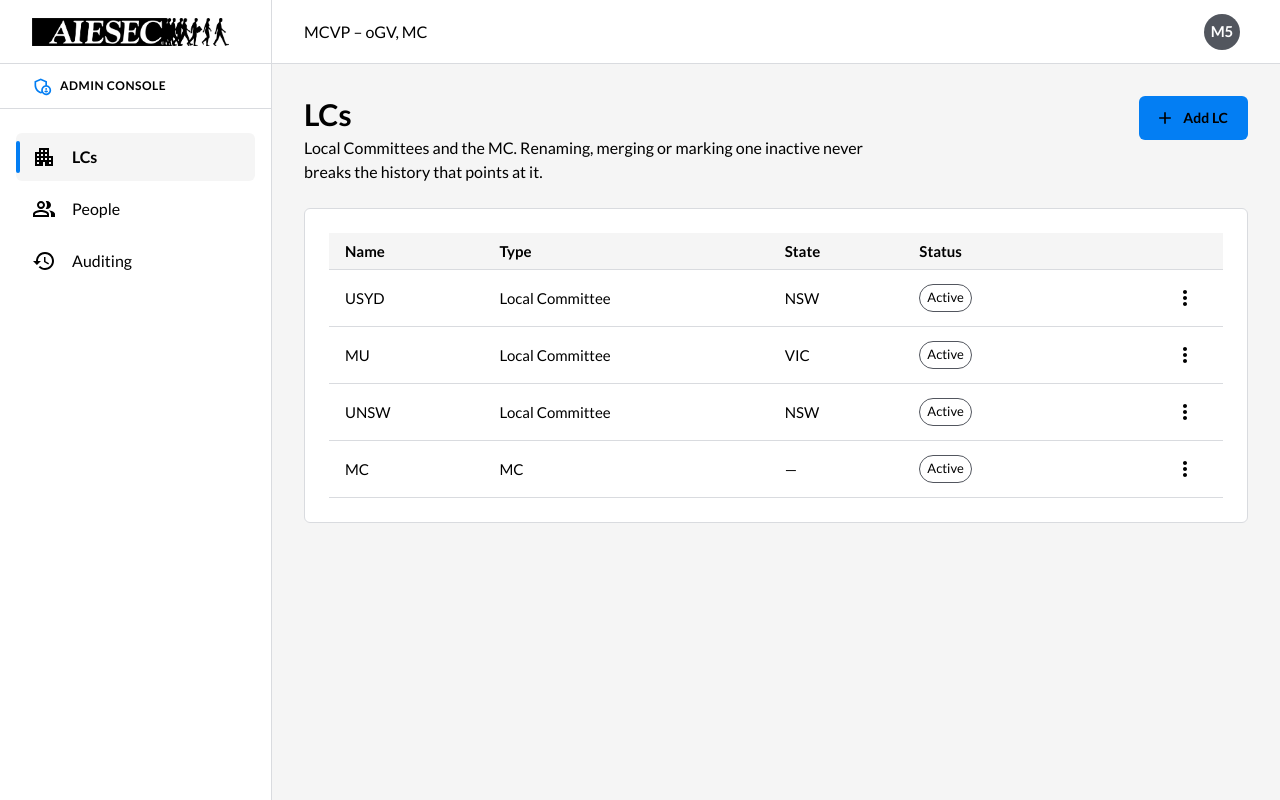
Test: admin console screens › shows the server message when a rename clashes with an existing LC
This screenshot has width=1280, height=800.
Click the button named "Actions for USYD".
click(1185, 298)  # box [1163, 276, 1207, 320]
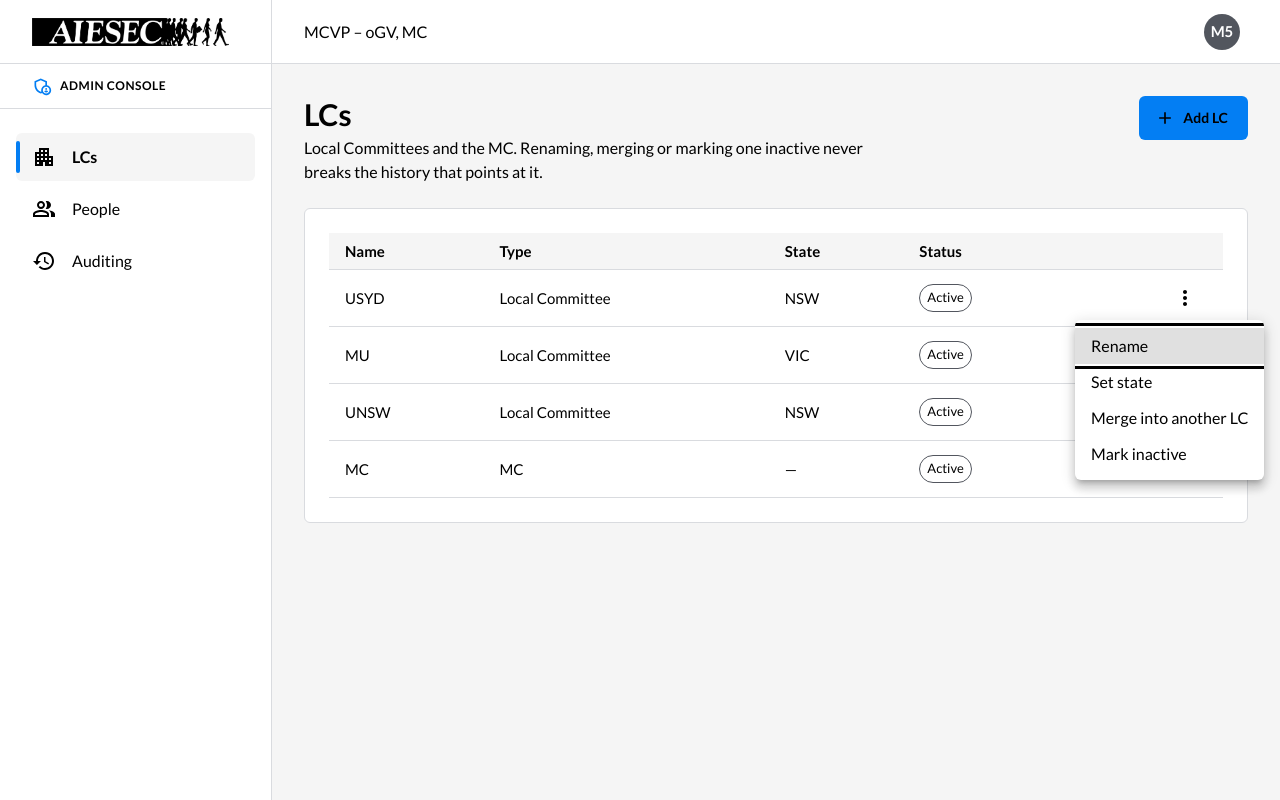
Click the menu item "Rename".
click(1170, 346)  # box [1075, 328, 1264, 364]
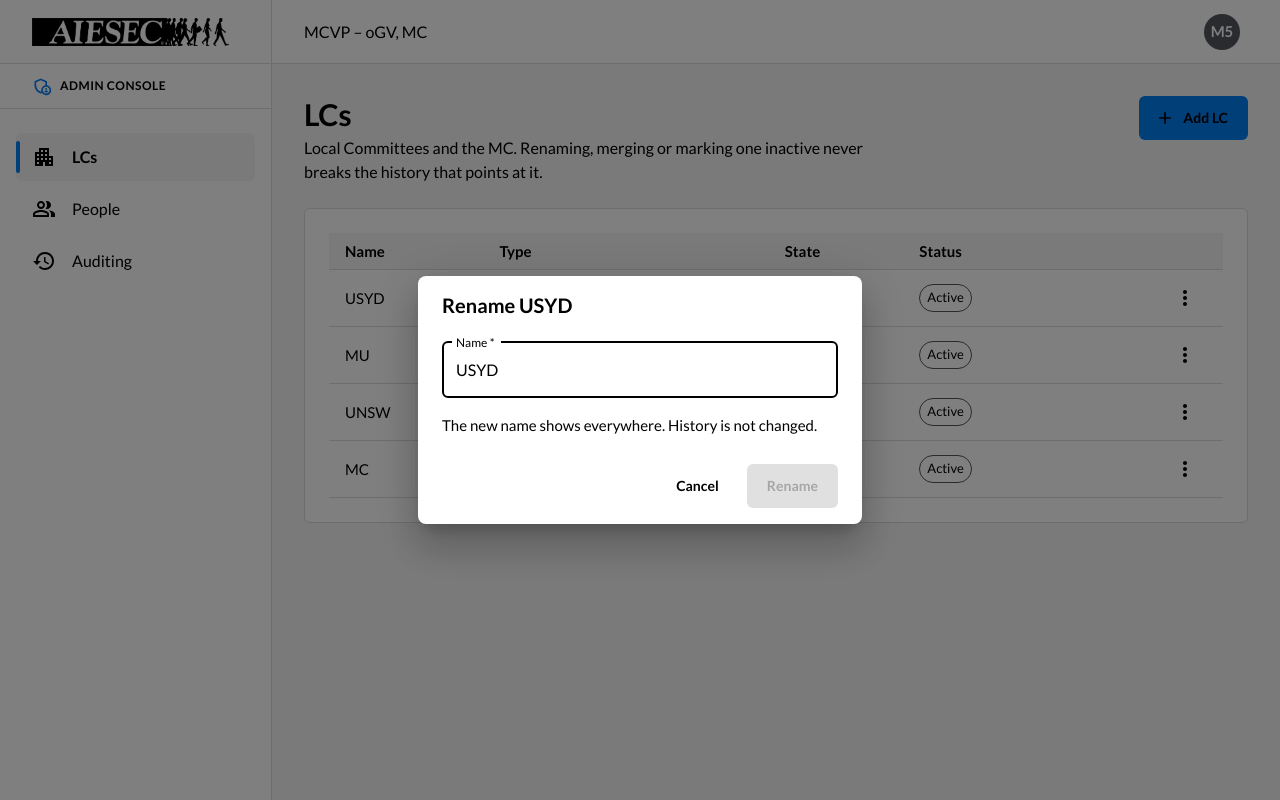
Replace the text in the field labelled "Name *" with "mu" at point(640, 370), box [442, 342, 838, 398]
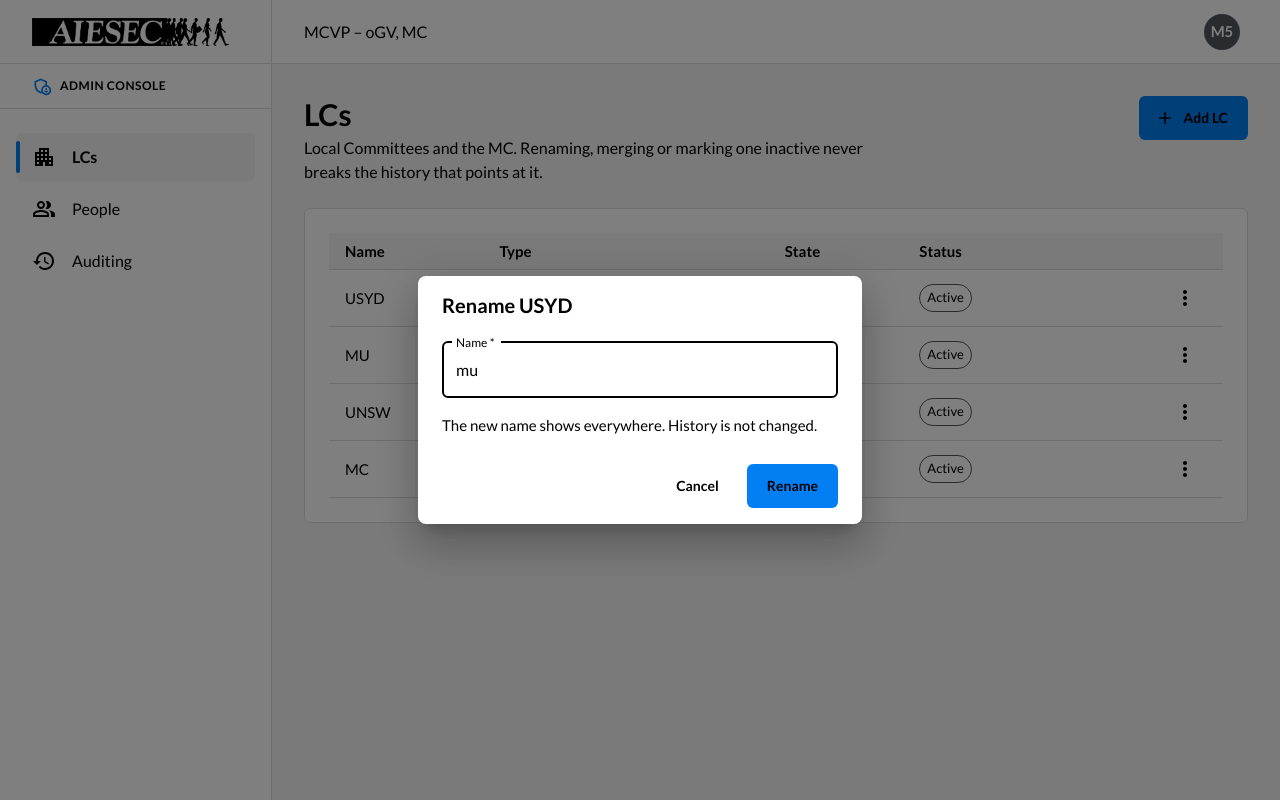
Click the button "Rename".
click(792, 486)  # box [747, 464, 838, 508]
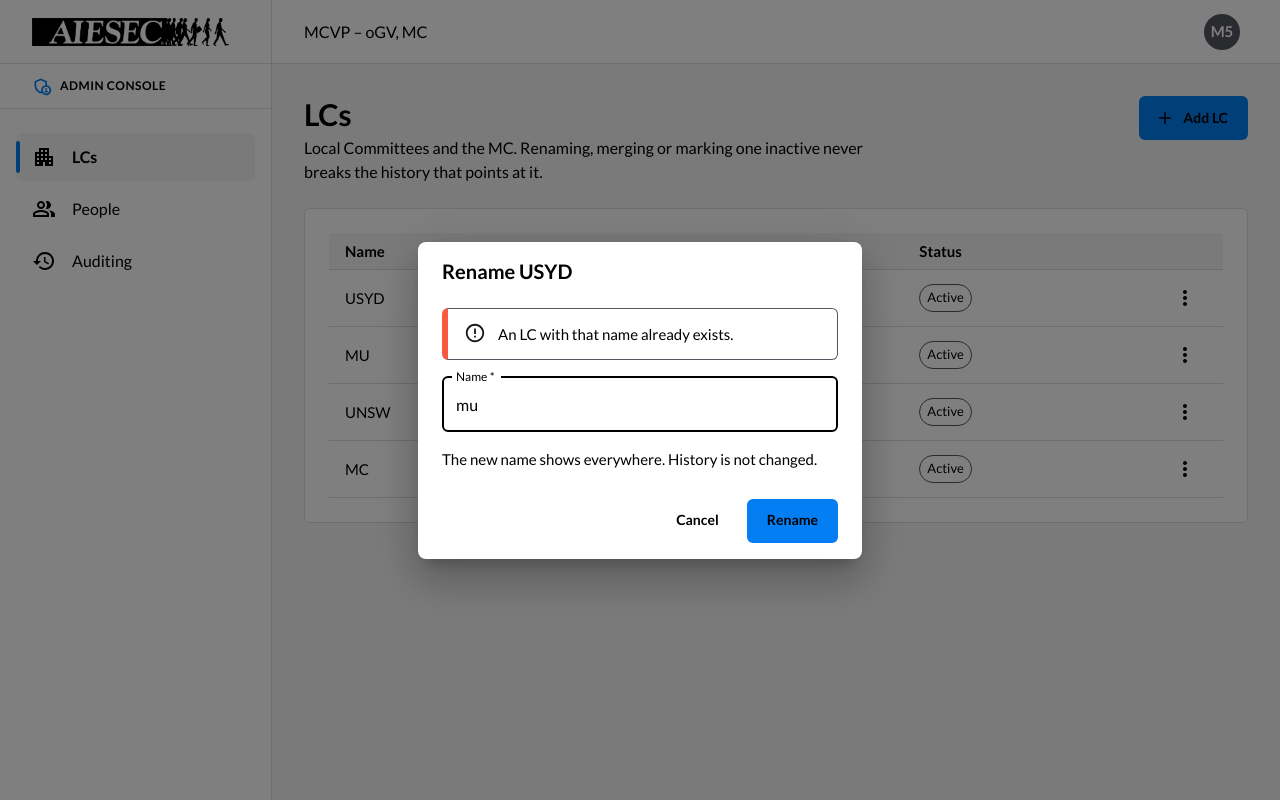
Expected: the text "An LC with that name already exists." is shown, [498, 324, 734, 342]
